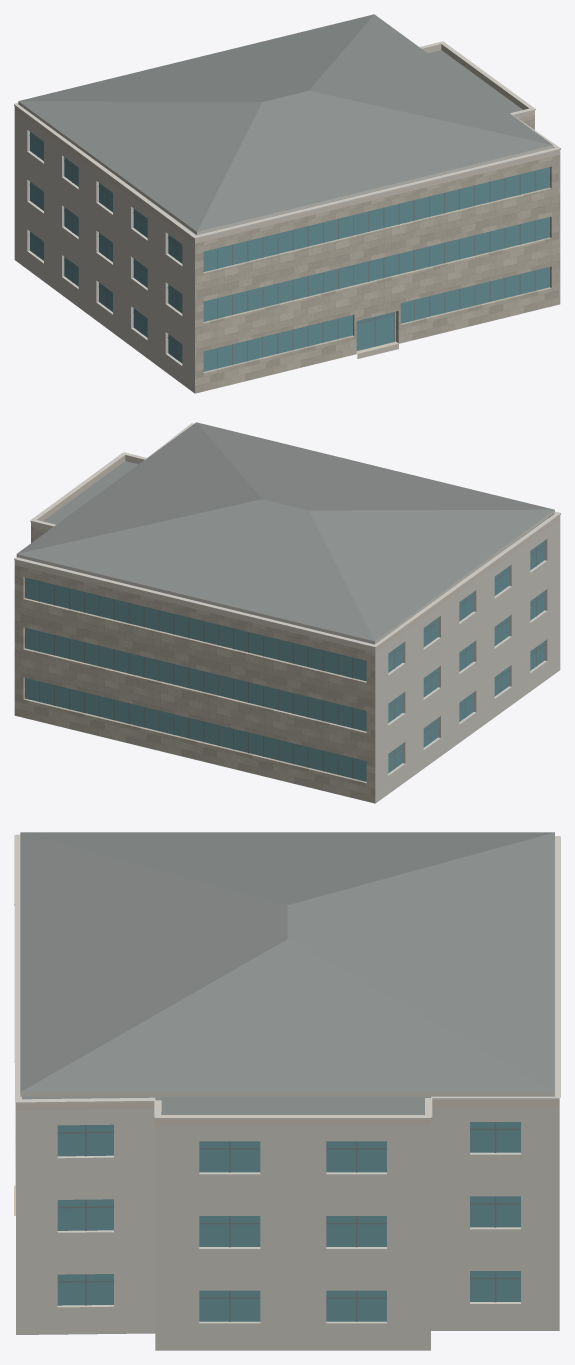
3 views of the same model, one above another, from view 1: azimuth 30°, elevation 25°; view 2: azimuth 150°, elevation 25°; view 3: azimuth 270°, elevation 25° (orthographic). The views are drawn at different scales.
Visible parts, largest first — view 1: gym__roof, gym__wall, gym__trim, gym__glass, gym__parapet, gym__frame; view 2: gym__roof, gym__wall, gym__trim, gym__glass, gym__parapet, gym__frame; view 3: gym__roof, gym__trim, gym__glass, gym__parapet, gym__frame.
Boxes of the visible parts, bbox=[...] form: gym__roof: bbox=[15, 14, 559, 393]; gym__wall: bbox=[195, 115, 560, 393]; gym__trim: bbox=[14, 41, 560, 393]; gym__glass: bbox=[30, 132, 549, 371]; gym__parapet: bbox=[14, 44, 560, 243]; gym__frame: bbox=[29, 135, 535, 368]; gym__roof: bbox=[15, 422, 559, 803]; gym__wall: bbox=[14, 526, 375, 803]; gym__trim: bbox=[14, 423, 560, 802]; gym__glass: bbox=[25, 541, 544, 781]; gym__parapet: bbox=[14, 455, 560, 652]; gym__frame: bbox=[39, 544, 544, 778]; gym__roof: bbox=[16, 832, 559, 1350]; gym__trim: bbox=[14, 834, 560, 1350]; gym__glass: bbox=[57, 1122, 520, 1321]; gym__parapet: bbox=[16, 1100, 559, 1126]; gym__frame: bbox=[57, 1122, 520, 1321].
Bounding box in the file's own units: 33.41 × 15.7 × 27.25.
Materials: 8 (1 with a texture image).
